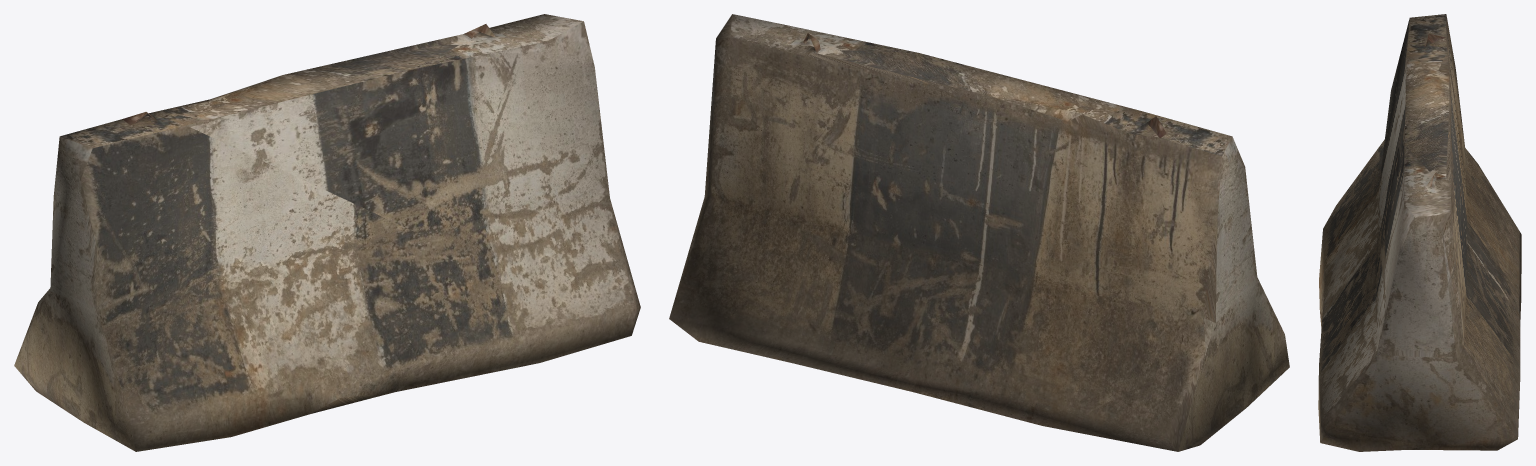
File: concrete_barrier.glb
The picture shows the model from 3 angles, left to right: view 1: azimuth 30°, elevation 25°; view 2: azimuth 150°, elevation 25°; view 3: azimuth 270°, elevation 25°; orthographic projection. The views are drawn at different scales.
Visible parts, largest first — view 1: concrete_barrier; view 2: concrete_barrier; view 3: concrete_barrier.
Boxes of the visible parts, x1,y1,x2,y2 form: concrete_barrier: (14,14,640,451); concrete_barrier: (669,14,1289,451); concrete_barrier: (1318,14,1521,451).
Bounding box in the file's own units: 1.54 × 0.8294 × 0.627.
1 material, 1 textured.
